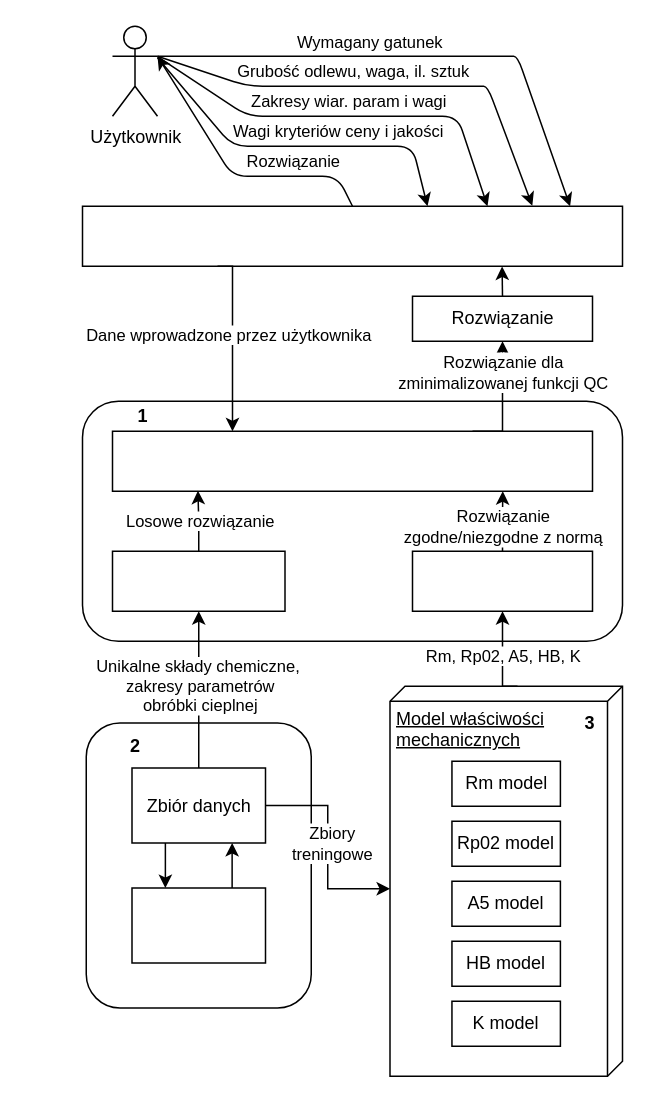
The diagram is 648 pixels wide and 1103 high, and some of its shapes have lost their labels. The centre of each missing label's shape, as x and y in pixels:
"Interfejs użytkownika" goes at point 351,235.
"Ograniczenia" goes at point 501,580.
"Przeszukiwanie metaheurystyczne" goes at point 351,460.
"Uzupełnianie danych" goes at point 198,924.
"Zbiór możliwych rozwiązań" goes at point 198,580.
